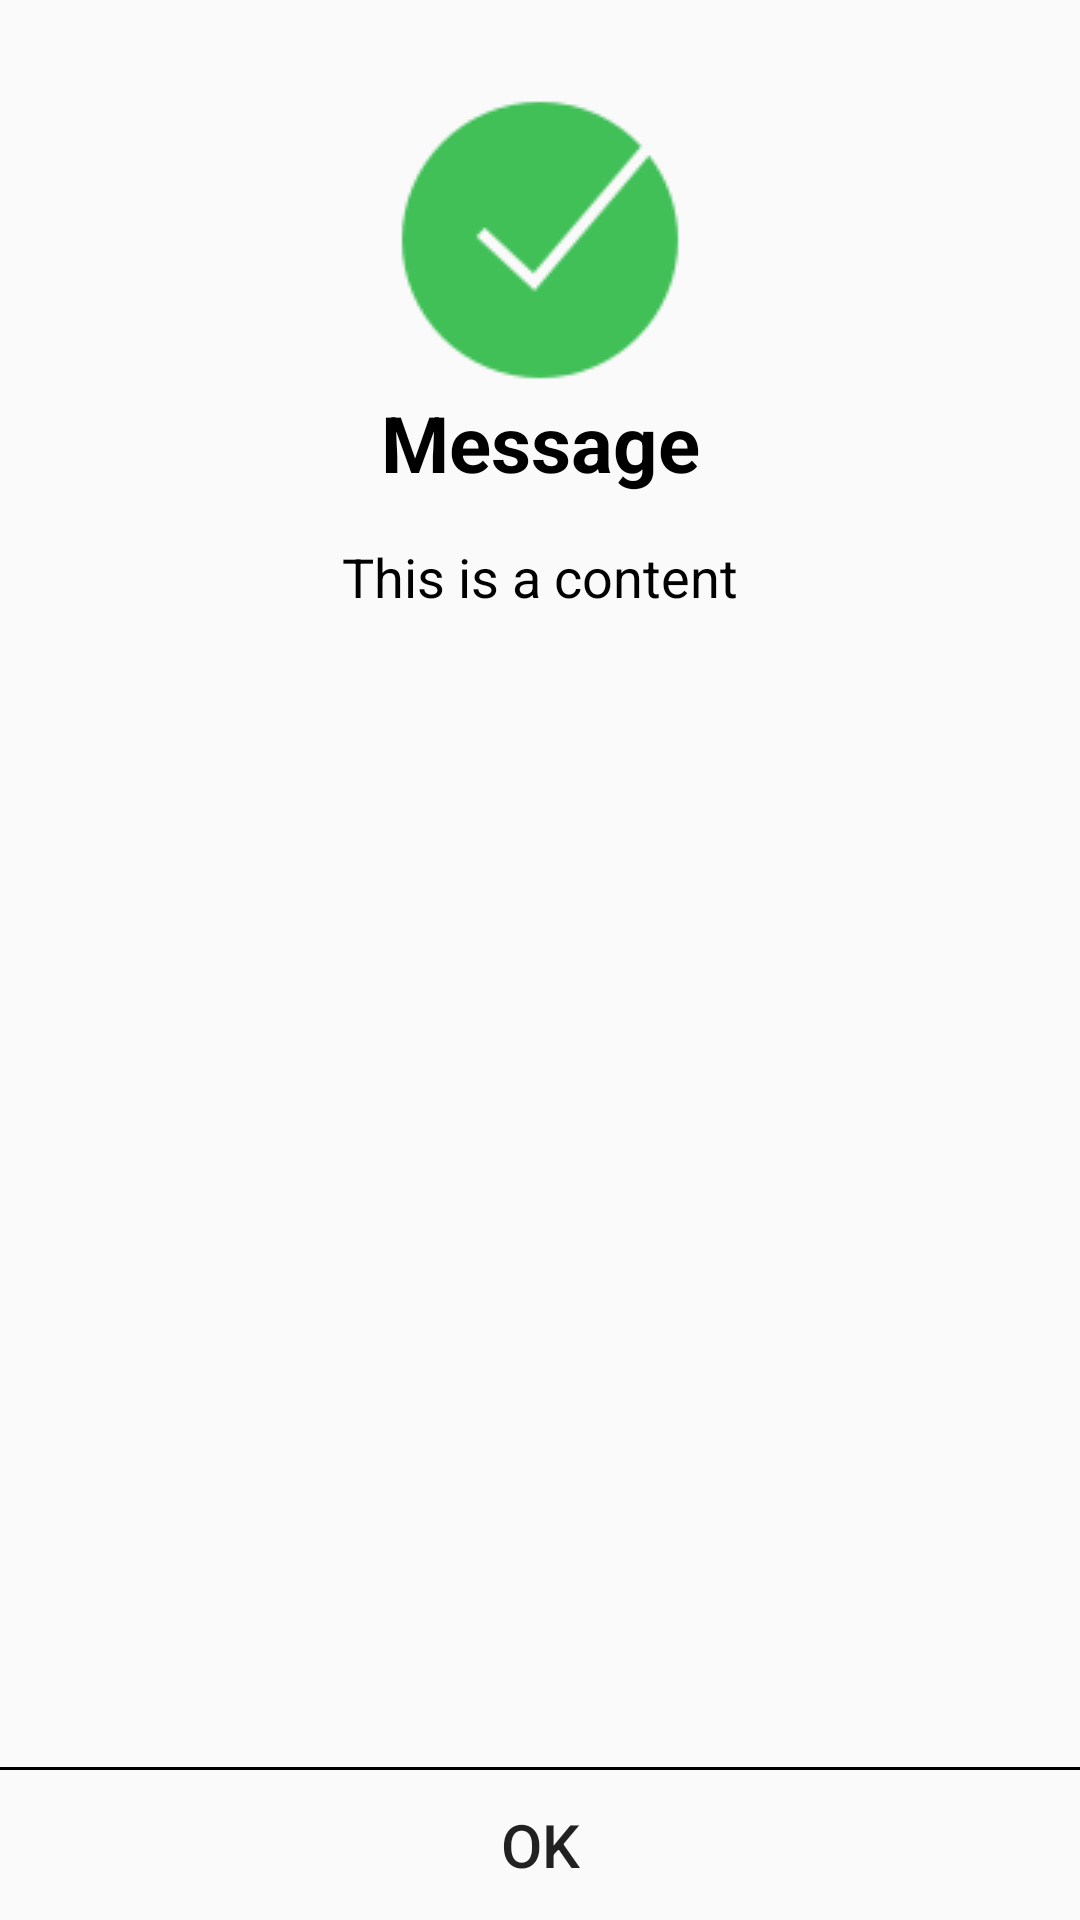

Named icons in this screenshot (1080 × 1920) and their centers, (x=x, y=y):
complete: (x=540, y=240)
